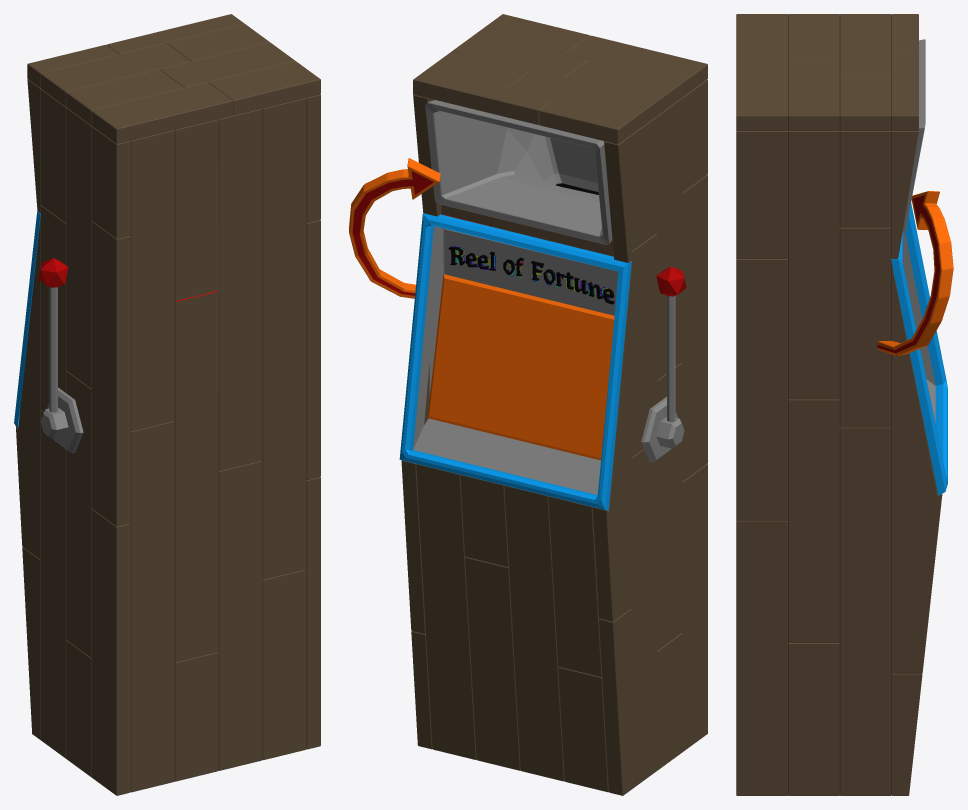
File: Resources__other__SlotMachine.glb
3 views of the same model, side by side, from view 1: azimuth 30°, elevation 25°; view 2: azimuth 150°, elevation 25°; view 3: azimuth 270°, elevation 25° (orthographic). The views are drawn at different scales.
Parts seen in each view (by area): view 1: SlotMachine, Arm; view 2: SlotMachine, Arm, NameText; view 3: SlotMachine.
Boxes of the visible parts, x1=… form: SlotMachine: x1=14, y1=14, x2=320, y2=795; Arm: x1=38, y1=258, x2=68, y2=439; SlotMachine: x1=349, y1=14, x2=707, y2=795; Arm: x1=656, y1=266, x2=686, y2=448; NameText: x1=448, y1=246, x2=614, y2=304; SlotMachine: x1=736, y1=14, x2=953, y2=795.
Size of the model in its own units: 0.9729 by 2.18 by 0.6308.
Materials: 4 (2 with a texture image).
